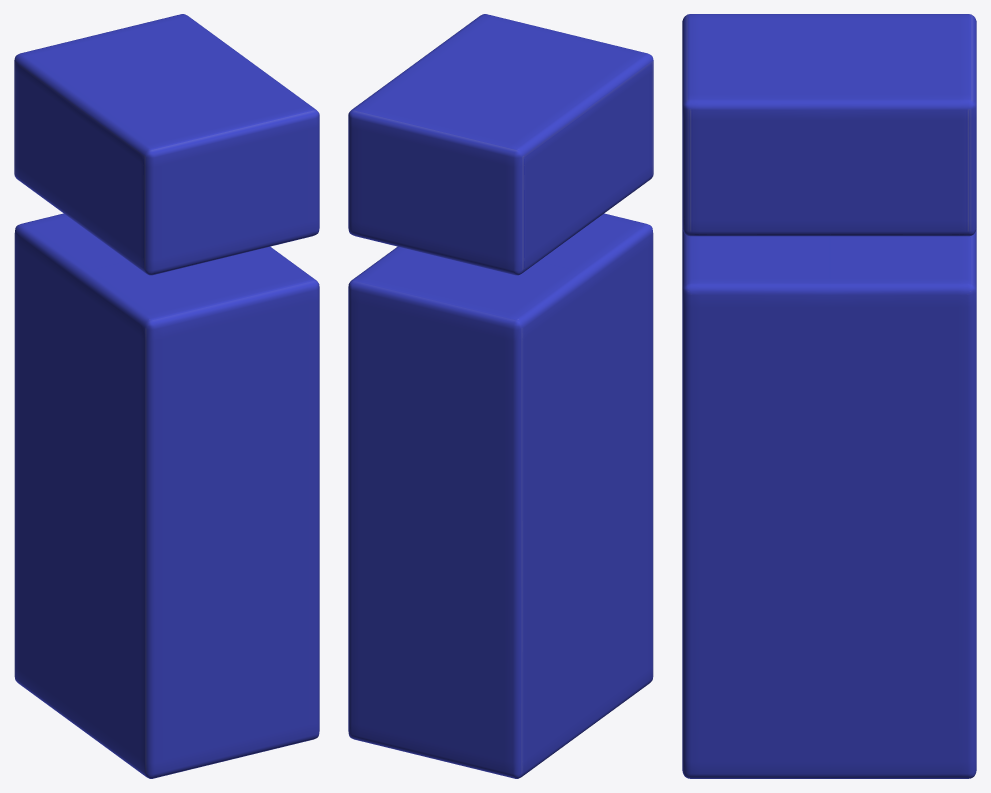
The model's file is i_letter.glb.
The picture shows the model from 3 angles, left to right: view 1: azimuth 30°, elevation 25°; view 2: azimuth 150°, elevation 25°; view 3: azimuth 270°, elevation 25°; orthographic projection. The views are drawn at different scales.
Visible parts, largest first — view 1: node_id78_1; view 2: node_id78_1; view 3: node_id78_1.
Part boxes in pixels (box(x1,y1,x2,y2)): node_id78_1: box(14, 14, 319, 778); node_id78_1: box(348, 14, 653, 778); node_id78_1: box(682, 14, 976, 778).
Size of the model in its own units: 0.1485 by 0.512 by 0.2012.
Materials: 1 (1 with a texture image).
